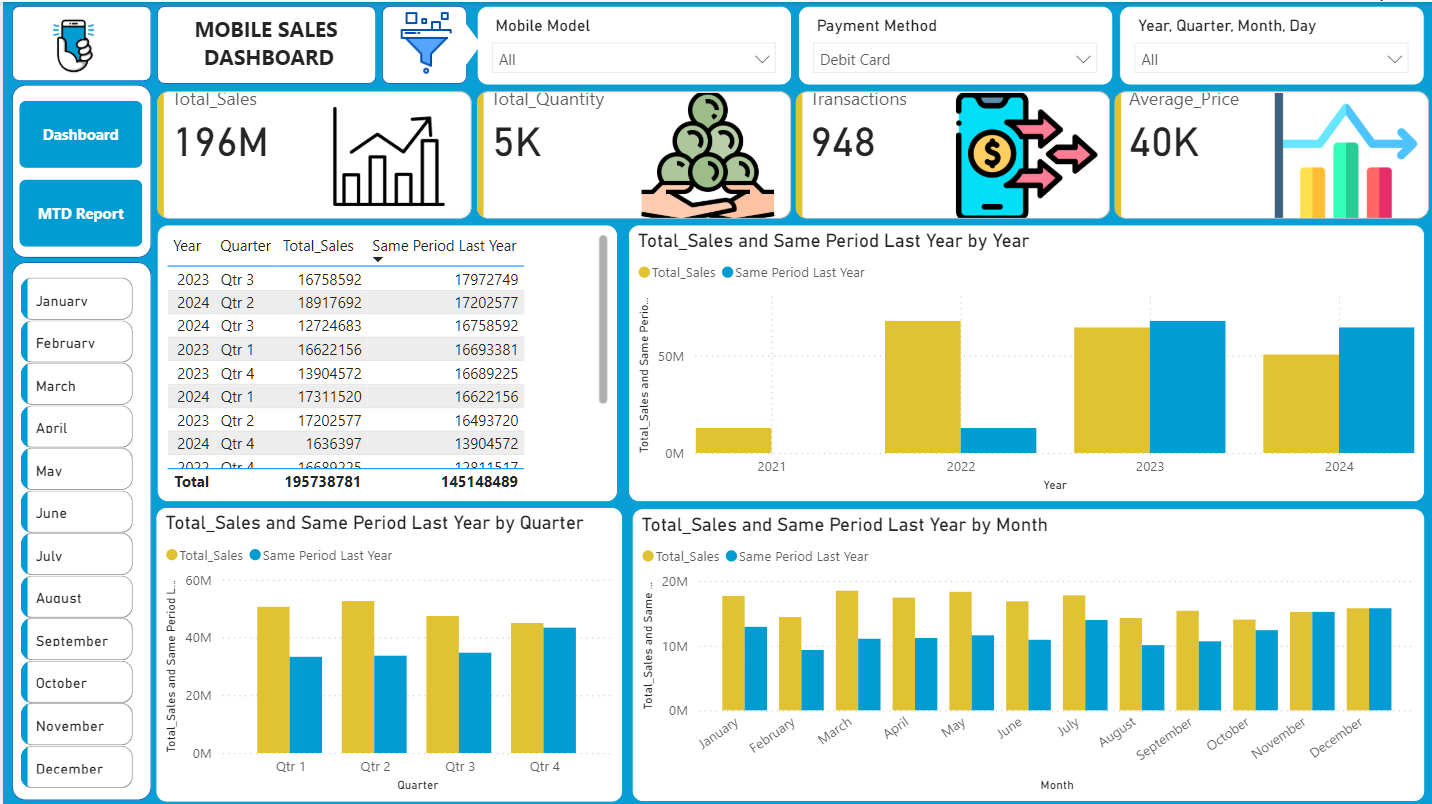

Layout of this report page (visuals, bound fields, positions):
{"tool":"powerbi","page":{"name":"Same Period Last Year","canvas":[1280,720],"ordinal":2},"visuals":[{"type":"shape","box":[7.5,3.8,125,67.5],"z":0},{"type":"image","box":[23.8,3.8,78.8,71.2],"z":1000},{"type":"shape","box":[7.5,73.8,125,155],"z":2000},{"type":"cardVisual","fields":{"Data":["Sales_Data.Total_Sales","Sales_Data.Total_Quantity","Sales_Data.Transactions","Sales_Data.Average_Price"]},"box":[133,74.3,1147,124.6],"z":3000},{"type":"slicer","fields":{"Values":["Sales_Data.Mobile Model"]},"box":[423.8,3.8,281.2,71.2],"z":4000},{"type":"slicer","fields":{"Values":["Sales_Data.Payment Method"]},"box":[710,3.8,281.2,71.2],"z":5000},{"type":"slicer","fields":{"Values":["Custom_Calendar.Date.Variation.Date Hierarchy.Year","Custom_Calendar.Date.Variation.Date Hierarchy.Quarter","Custom_Calendar.Date.Variation.Date Hierarchy.Month","Custom_Calendar.Date.Variation.Date Hierarchy.Day"]},"box":[997.5,3.8,272.5,71.2],"z":6000},{"type":"shape","box":[338.8,3.8,76.2,70],"z":7000},{"type":"image","box":[337.5,3.8,81.2,66.2],"z":8000},{"type":"shape","box":[397.5,17.5,30,40],"z":9000},{"type":"shape","box":[137.5,3.8,196.2,70],"z":10000},{"type":"textbox","box":[156.2,6.2,162.5,63.8],"z":11000},{"type":"shape","box":[7.5,232.5,125,481.2],"z":12000},{"type":"advancedSlicerVisual","fields":{"Values":["Custom_Calendar.Date.Variation.Date Hierarchy.Month"]},"box":[11.2,241.2,110,472.5],"z":13000},{"type":"tableEx","fields":{"Values":["Custom_Calendar.Date.Variation.Date Hierarchy.Year","Custom_Calendar.Date.Variation.Date Hierarchy.Quarter","Sales_Data.Total_Sales","Sales_Data.Same Period Last Year"]},"box":[137.8,199,412.3,248.1],"z":14000},{"type":"clusteredColumnChart","fields":{"Category":["Custom_Calendar.Date.Variation.Date Hierarchy.Year","Custom_Calendar.Date.Variation.Date Hierarchy.Quarter"],"Y":["Sales_Data.Total_Sales","Sales_Data.Same Period Last Year"]},"box":[558.5,199,711.9,248.1],"z":15000},{"type":"clusteredColumnChart","fields":{"Category":["Custom_Calendar.Date.Variation.Date Hierarchy.Year","Custom_Calendar.Date.Variation.Date Hierarchy.Quarter","Custom_Calendar.Date.Variation.Date Hierarchy.Month","Custom_Calendar.Date.Variation.Date Hierarchy.Day"],"Y":["Sales_Data.Total_Sales","Sales_Data.Same Period Last Year"]},"box":[561.2,452.5,708.8,262.5],"z":16000},{"type":"clusteredColumnChart","fields":{"Category":["Custom_Calendar.Date.Variation.Date Hierarchy.Year","Custom_Calendar.Date.Variation.Date Hierarchy.Quarter"],"Y":["Sales_Data.Total_Sales","Sales_Data.Same Period Last Year"]},"box":[136.2,451.2,417.5,263.8],"z":17000},{"type":"pageNavigator","box":[15,88.8,110,130],"z":18000}]}

Visuals, with their boxes in screenshot pixels (x1, y1, x2, y2), scaled from the page's 1280x720 canvas onto the 1432x804 screenshot:
shape: [8,4,148,80]
image: [27,4,115,84]
shape: [8,82,148,255]
cardVisual - Sales_Data.Total_Sales x Sales_Data.Total_Quantity: [149,83,1431,222]
slicer - Sales_Data.Mobile Model: [474,4,789,84]
slicer - Sales_Data.Payment Method: [794,4,1109,84]
slicer - Custom_Calendar.Date.Variation.Date Hierarchy.Year x Custom_Calendar.Date.Variation.Date Hierarchy.Quarter: [1116,4,1421,84]
shape: [379,4,464,82]
image: [378,4,468,78]
shape: [445,20,478,64]
shape: [154,4,373,82]
textbox: [175,7,357,78]
shape: [8,260,148,797]
advancedSlicerVisual - Custom_Calendar.Date.Variation.Date Hierarchy.Month: [13,269,136,797]
tableEx - Custom_Calendar.Date.Variation.Date Hierarchy.Year x Custom_Calendar.Date.Variation.Date Hierarchy.Quarter: [154,222,615,499]
clusteredColumnChart - Custom_Calendar.Date.Variation.Date Hierarchy.Year x Custom_Calendar.Date.Variation.Date Hierarchy.Quarter: [625,222,1421,499]
clusteredColumnChart - Custom_Calendar.Date.Variation.Date Hierarchy.Year x Custom_Calendar.Date.Variation.Date Hierarchy.Quarter: [628,505,1421,798]
clusteredColumnChart - Custom_Calendar.Date.Variation.Date Hierarchy.Year x Custom_Calendar.Date.Variation.Date Hierarchy.Quarter: [152,504,619,798]
pageNavigator: [17,99,140,244]
